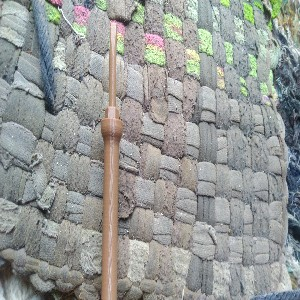obeng: (99, 22, 125, 300)
